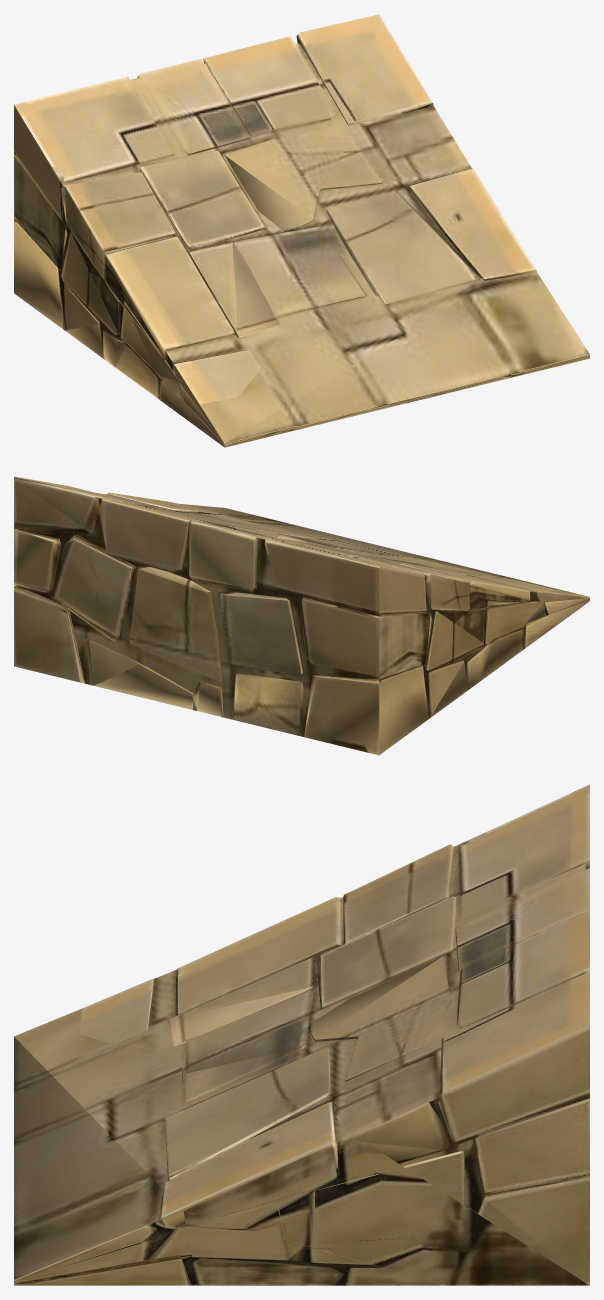
Rendered from ramp.glb.
The picture shows the model from 3 angles, top to bottom: view 1: azimuth 30°, elevation 25°; view 2: azimuth 150°, elevation 25°; view 3: azimuth 270°, elevation 25°; orthographic projection. The views are drawn at different scales.
Bounding box in the file's own units: 2 × 1 × 2.
1 material, 1 textured.
